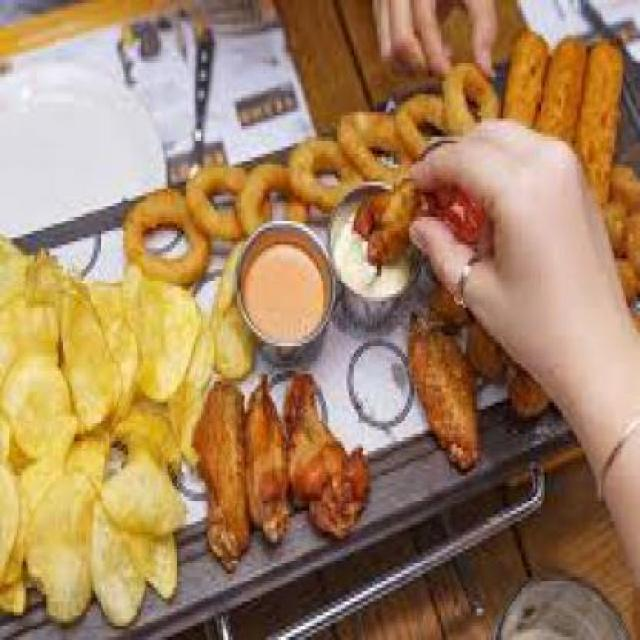chicken wings: (350, 182, 572, 466), (195, 381, 372, 556)
onion rings: (116, 49, 512, 276)
